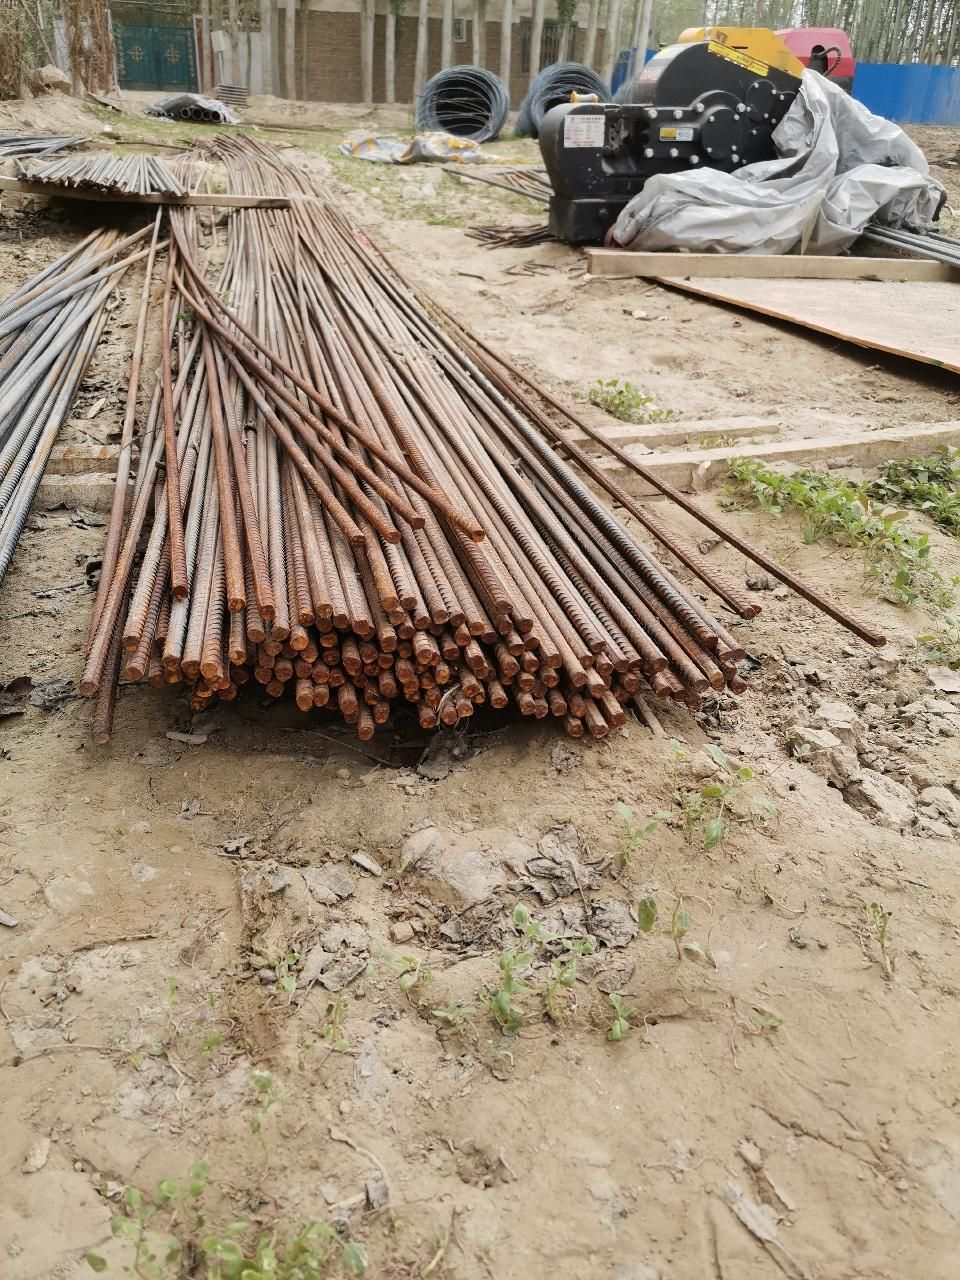rebar: (90, 729, 114, 747), (123, 664, 144, 684), (226, 595, 247, 615), (343, 656, 363, 677), (78, 679, 100, 698), (399, 593, 419, 613), (147, 669, 166, 690), (121, 633, 140, 653), (162, 654, 183, 673), (348, 530, 368, 549), (623, 675, 643, 694), (171, 582, 190, 603), (295, 691, 314, 713), (361, 644, 379, 665), (380, 632, 398, 653), (264, 637, 283, 656), (275, 663, 294, 682), (328, 668, 347, 687), (395, 639, 414, 658), (430, 607, 449, 626), (449, 611, 468, 630), (591, 720, 610, 739), (692, 676, 711, 695), (311, 688, 331, 707), (380, 595, 400, 613), (433, 667, 452, 685), (439, 707, 457, 726), (519, 697, 538, 716), (589, 681, 608, 699), (612, 656, 631, 674), (245, 626, 265, 643), (259, 601, 276, 621), (397, 664, 414, 684), (461, 682, 481, 699), (466, 653, 486, 670), (488, 692, 509, 709), (710, 670, 726, 691), (199, 660, 217, 678), (373, 705, 391, 723), (518, 672, 536, 690), (591, 637, 609, 655), (181, 657, 200, 674), (219, 684, 238, 701), (255, 666, 272, 685), (323, 649, 340, 668), (364, 686, 381, 706), (569, 670, 588, 687), (578, 652, 597, 669), (651, 654, 669, 673), (700, 634, 719, 651), (228, 648, 246, 665), (272, 624, 289, 642), (333, 612, 350, 630), (321, 631, 338, 649), (357, 724, 374, 742), (381, 678, 398, 696), (425, 689, 443, 707), (417, 712, 436, 729), (456, 700, 474, 718), (503, 659, 521, 676), (609, 710, 626, 728), (597, 661, 614, 679), (629, 654, 646, 672), (613, 688, 631, 706), (683, 692, 701, 710), (722, 663, 740, 680), (731, 680, 749, 697), (302, 644, 318, 663), (313, 664, 329, 683), (339, 697, 358, 714), (397, 623, 416, 639), (483, 630, 499, 649), (521, 656, 540, 672), (671, 687, 690, 704), (738, 605, 757, 621), (291, 633, 309, 650), (351, 618, 368, 635), (568, 721, 585, 738), (267, 680, 285, 696), (317, 602, 333, 620), (295, 661, 312, 679), (495, 598, 513, 614), (516, 616, 534, 632), (571, 701, 589, 718), (655, 684, 674, 700), (730, 645, 746, 663), (416, 646, 432, 665), (498, 618, 513, 637), (409, 515, 427, 531), (469, 528, 486, 544), (419, 672, 436, 689), (474, 661, 490, 678), (190, 697, 208, 713), (385, 530, 403, 545), (405, 685, 419, 705), (378, 653, 394, 669), (469, 620, 485, 636), (260, 653, 275, 670), (388, 609, 405, 624), (414, 614, 430, 631), (455, 631, 472, 646), (531, 680, 547, 697), (550, 701, 567, 717), (717, 648, 734, 663), (299, 611, 315, 627), (444, 646, 460, 661), (542, 670, 557, 686), (546, 652, 561, 668), (195, 685, 212, 699), (317, 619, 334, 633), (508, 642, 525, 656), (282, 644, 297, 659), (364, 662, 379, 677), (354, 675, 370, 689), (524, 635, 540, 649), (874, 634, 890, 648), (344, 709, 359, 723), (534, 702, 549, 718), (472, 689, 485, 704), (500, 672, 513, 686), (184, 672, 200, 683), (155, 635, 167, 648), (168, 671, 179, 684)
